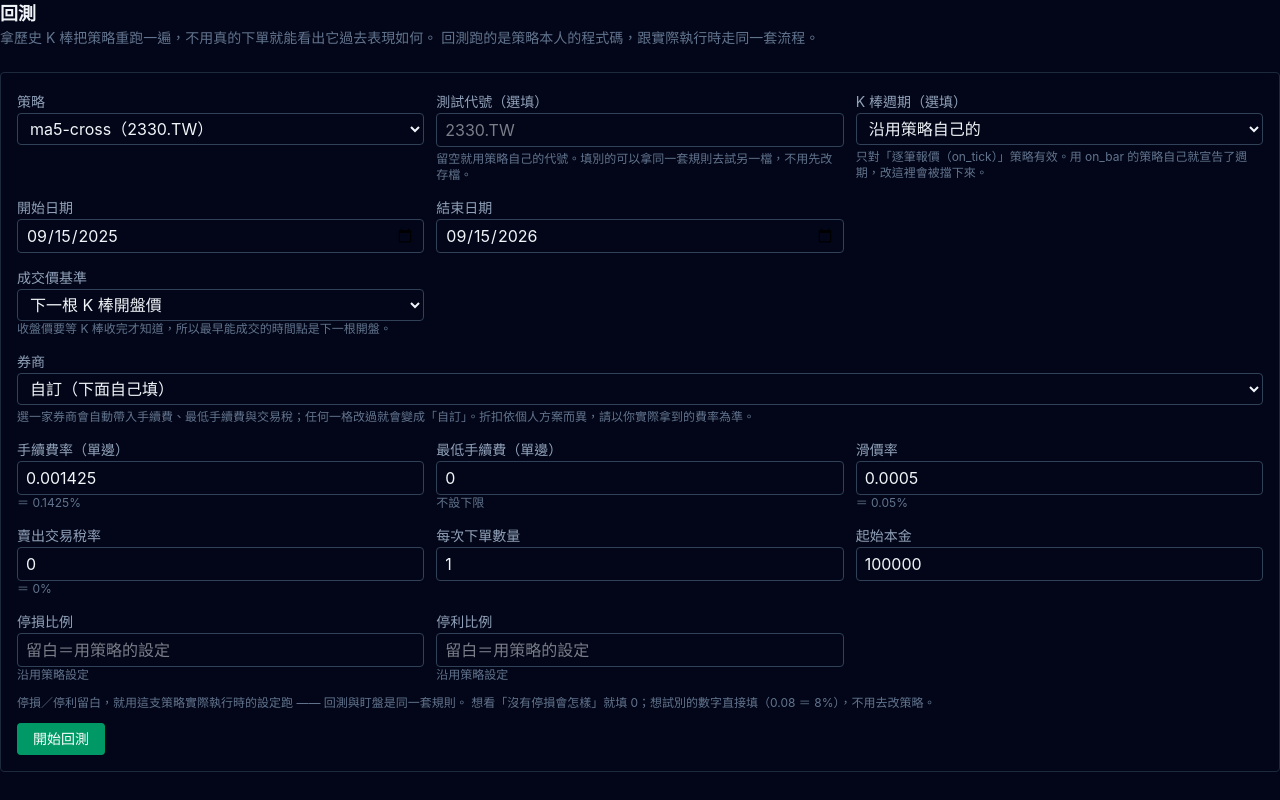
Scenario: BacktestPage › passes through the reason when warm-up ate the whole range
Click the button "開始回測".
click(61, 739)  # box left=17, top=723, right=105, bottom=755
(page scrolled)
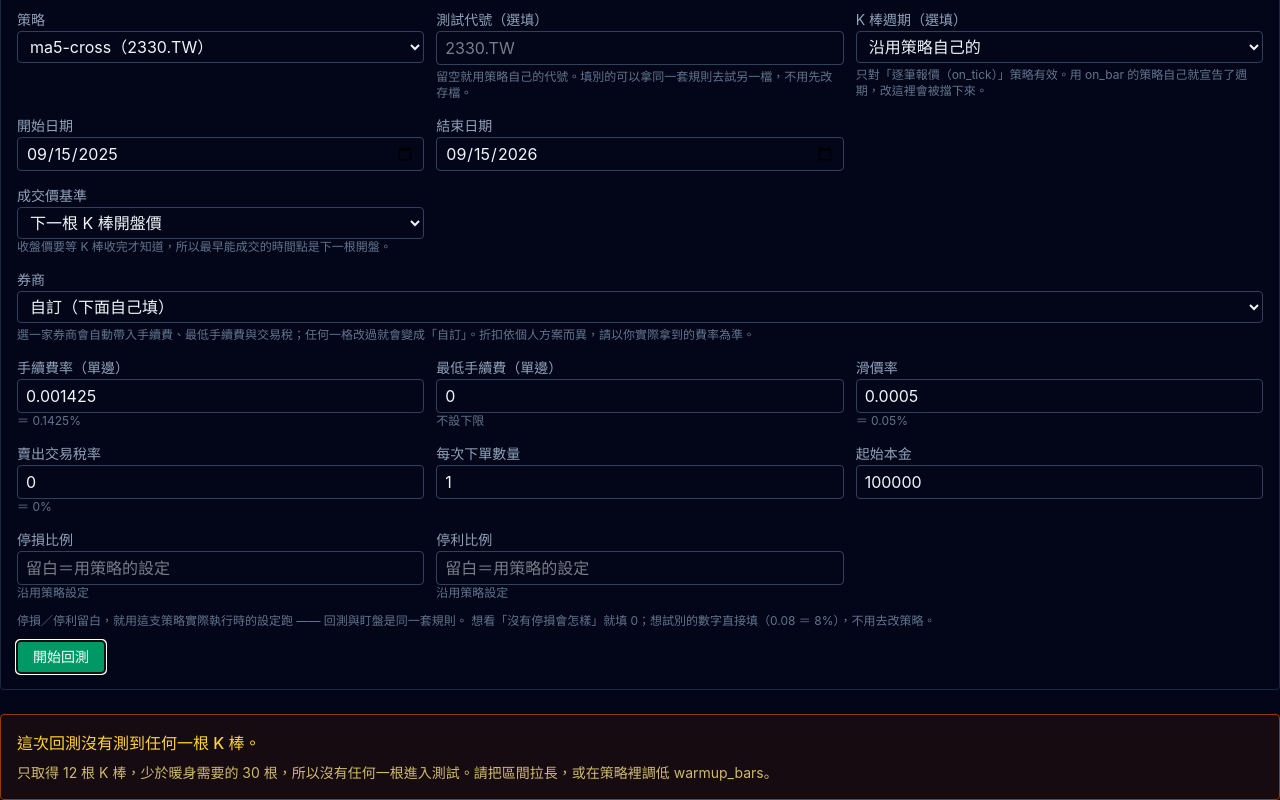
Result: the text "少於暖身需要的 30 根" is shown at left=17, top=764, right=778, bottom=781
